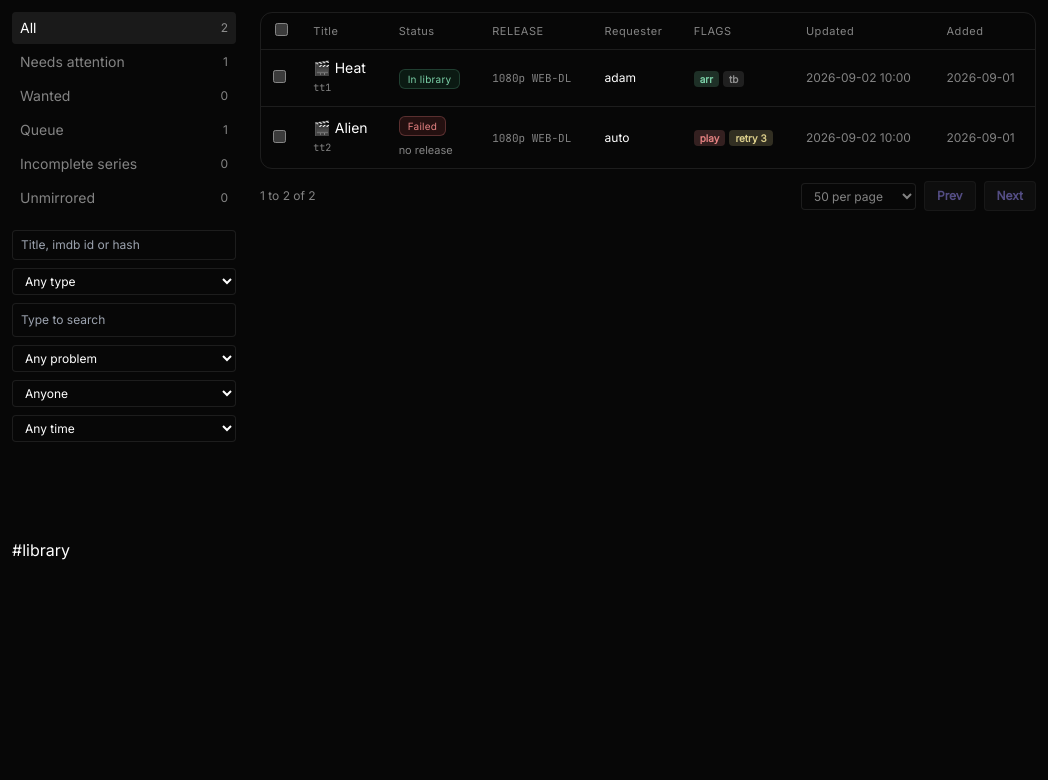
Scenario: Library tab › selecting a row shows the action bar with Retry and Remove from library
Click the checkbox named "Select Heat" at (280, 76), box [273, 70, 286, 83]
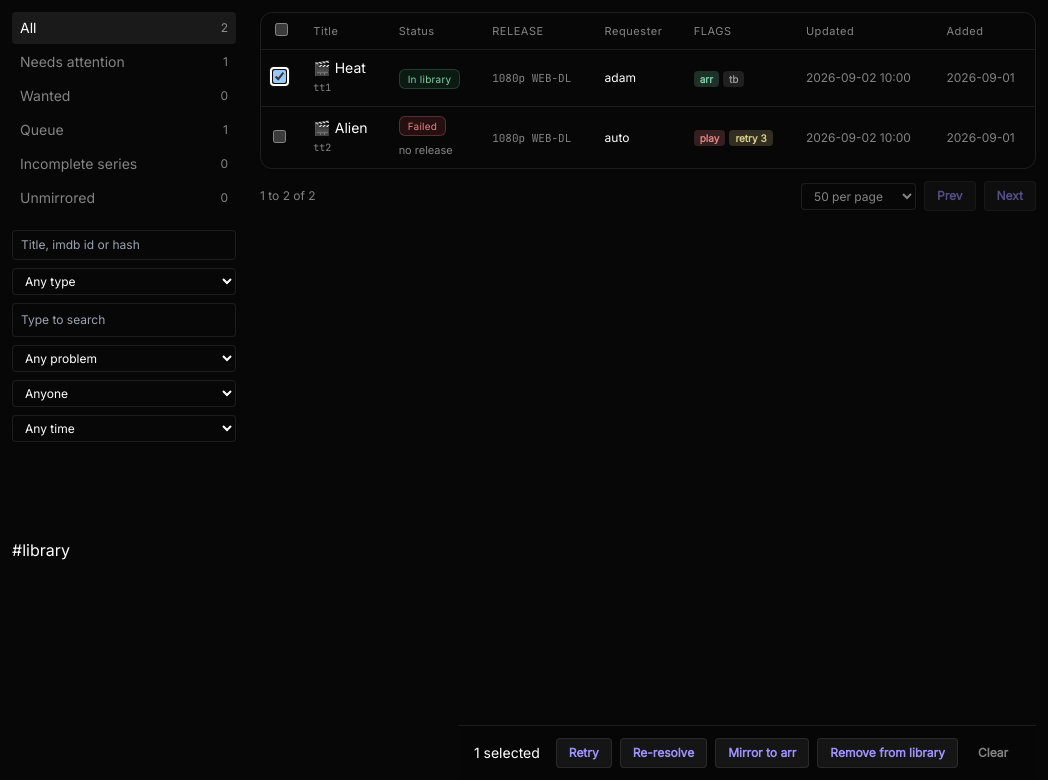
Check: the text "1 selected" is shown, box [474, 743, 540, 763]
Check: the button "Retry" is shown, box [556, 738, 612, 768]
Check: the button "Remove from library" is shown, box [817, 738, 958, 768]
